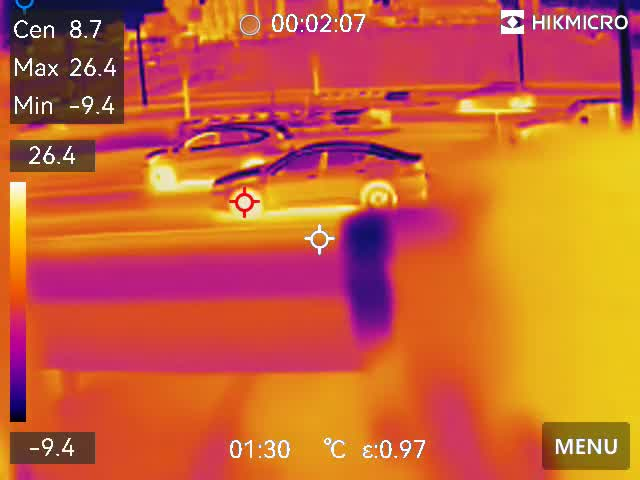largeCar: (141, 121, 294, 183)
lightTruck: (504, 102, 640, 149)
smallCar: (212, 137, 428, 218)
vehicle: (453, 82, 543, 115)
